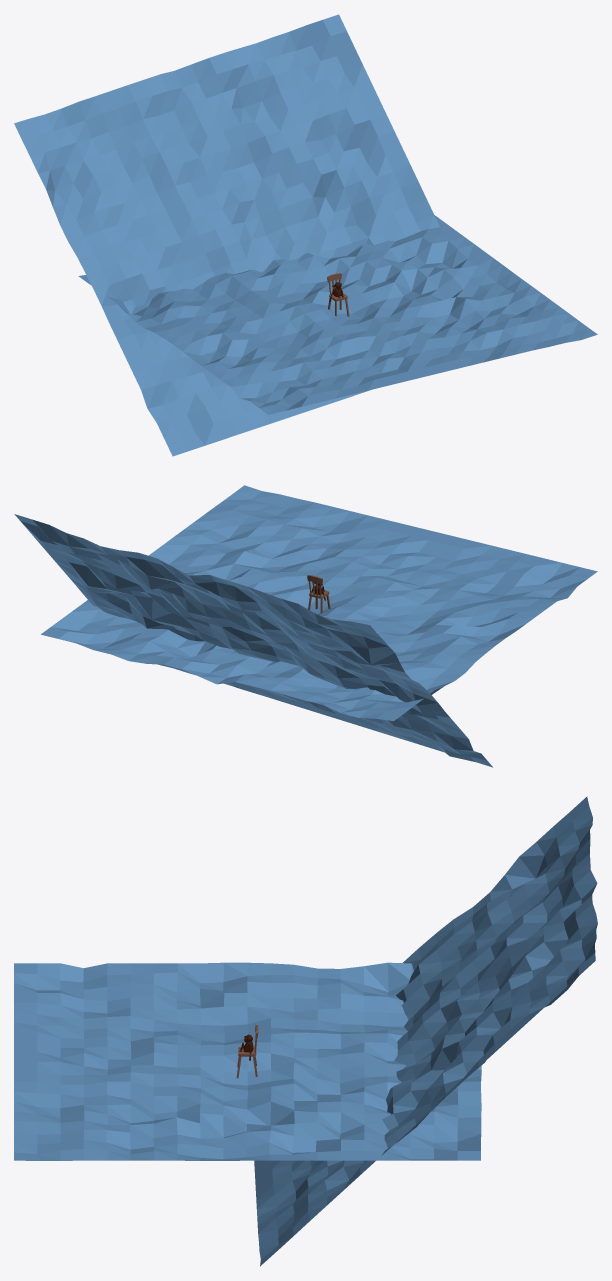
Rendered from Intro.fbx.
The picture shows the model from 3 angles, top to bottom: view 1: azimuth 30°, elevation 25°; view 2: azimuth 150°, elevation 25°; view 3: azimuth 270°, elevation 25°; orthographic projection. The views are drawn at different scales.
Parts seen in each view (by area): view 1: Node.001, Node; view 2: Node, Node.001, Wooden_chair_01_Cube.035; view 3: Node, Node.001.
Part boxes in pixels (box(x1,y1,x2,y2)): Node.001: box(14, 14, 439, 456); Node: box(78, 215, 597, 414); Node: box(41, 485, 597, 721); Node.001: box(14, 514, 492, 767); Wooden_chair_01_Cube.035: box(307, 575, 330, 613); Node: box(14, 962, 481, 1160); Node.001: box(254, 796, 597, 1266).
Size of the model in its own units: 9956 by 7182 by 11700.
